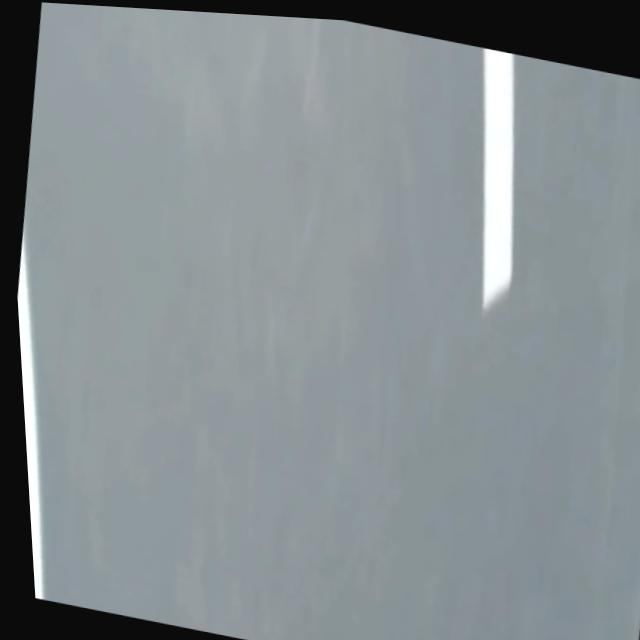center: (483, 48, 513, 310)
left: (18, 237, 42, 600)
